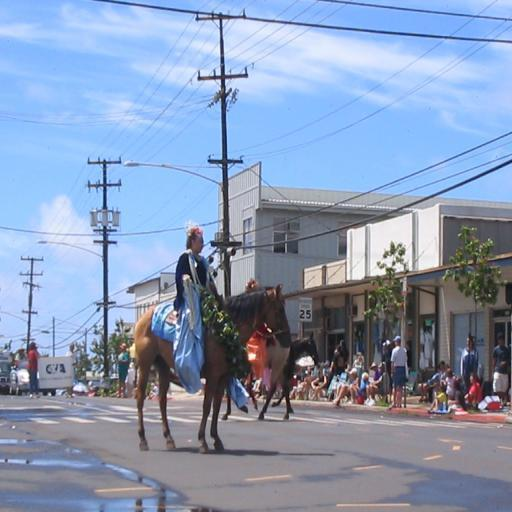horse: (132, 280, 290, 456), (218, 334, 296, 422), (242, 330, 320, 414)
